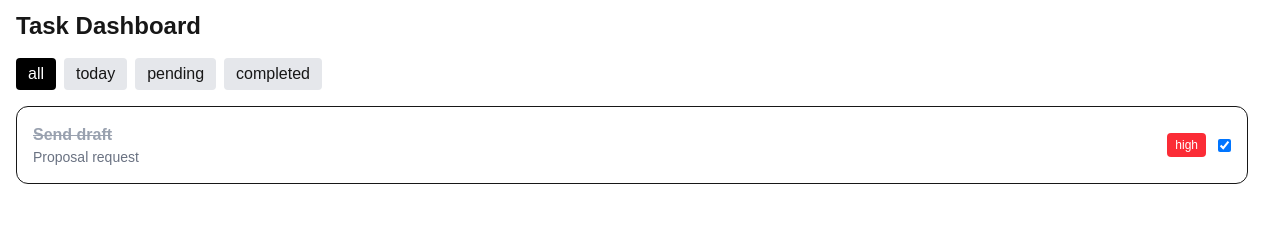
Test case: TasksPage › shows an empty state when no tasks match the current view
The width and height of the screenshot is (1265, 245).
Click the button "pending" at (176, 74), box [135,58,216,90]
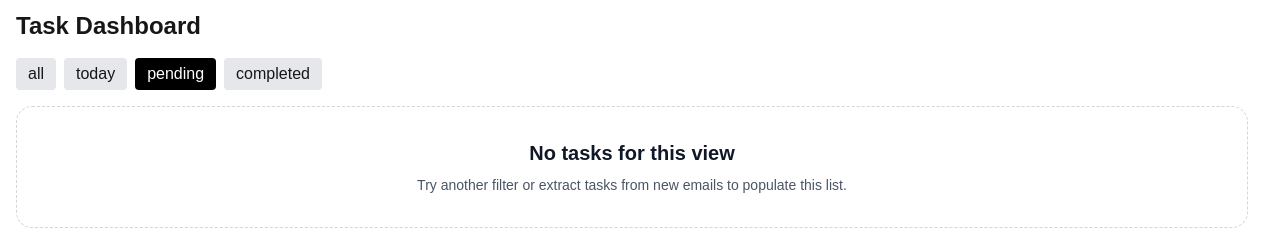
Now the heading "No tasks for this view" is shown, box [529,142,735,164]
